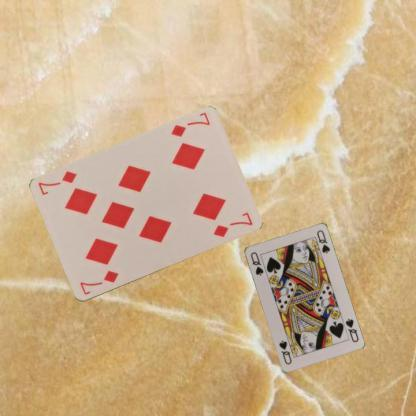7d: (76, 268, 119, 297), (168, 110, 212, 138)
Qs: (342, 316, 360, 343), (248, 249, 264, 277)
